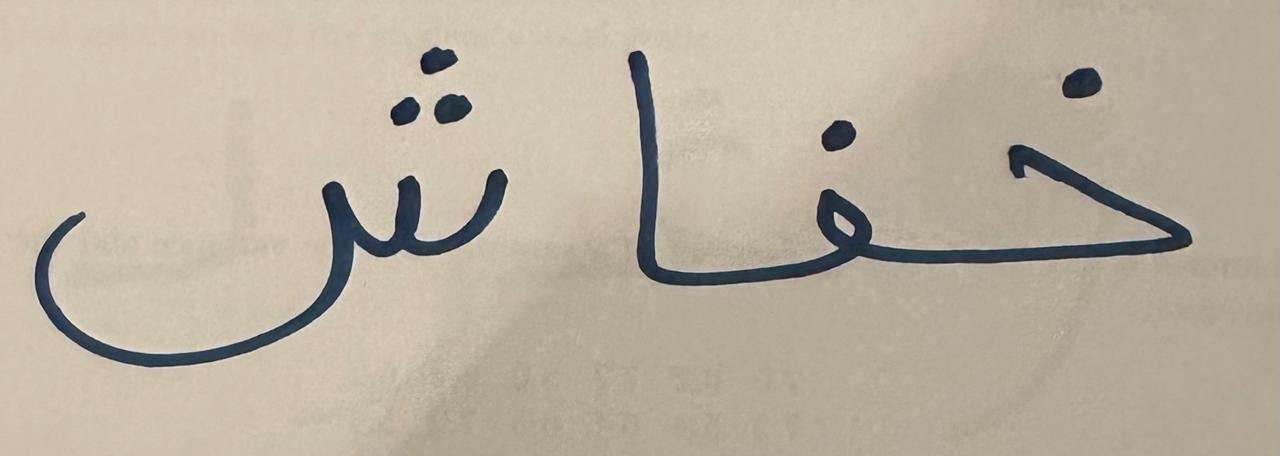alef: (564, 13, 698, 330)
feh: (703, 46, 899, 328)
lam: (903, 12, 1222, 339)
tah: (16, 3, 558, 413)
